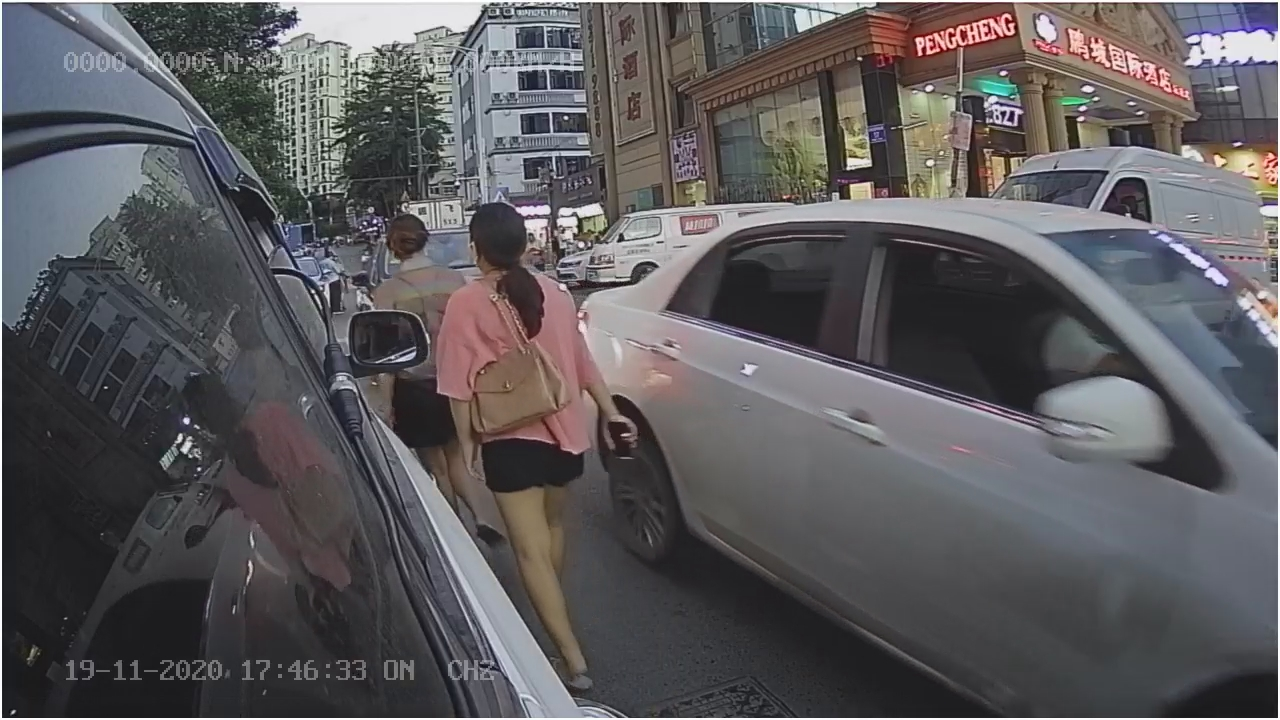person: (436, 208, 592, 501)
